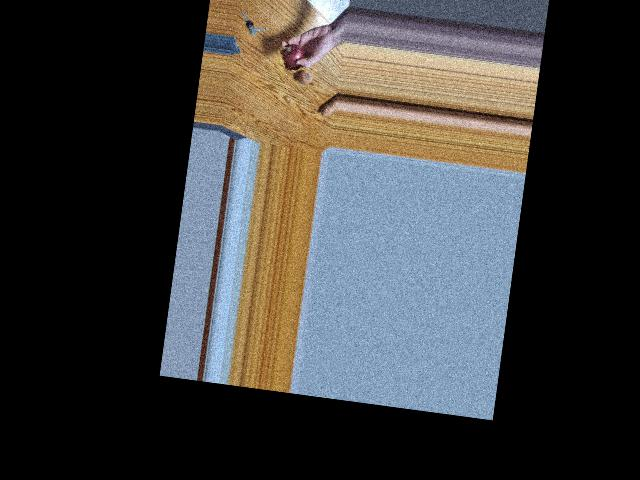onion: (296, 63, 314, 87)
